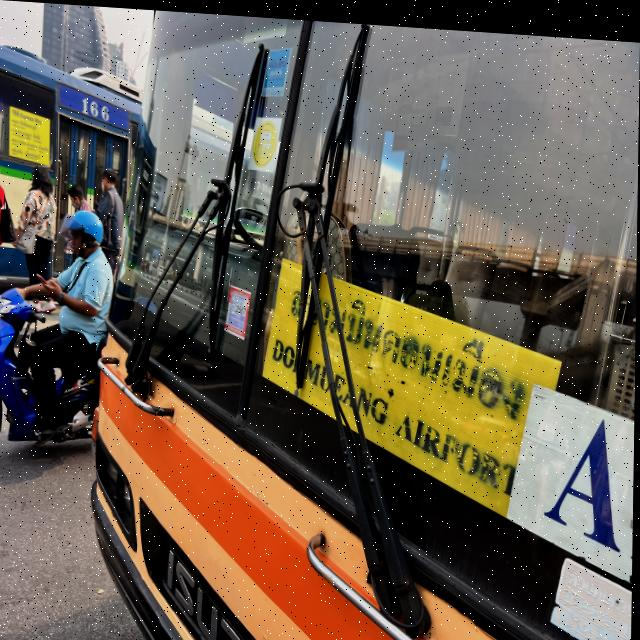BMTA-bus: (84, 5, 640, 640)
Destination Sign: (260, 252, 560, 519)
